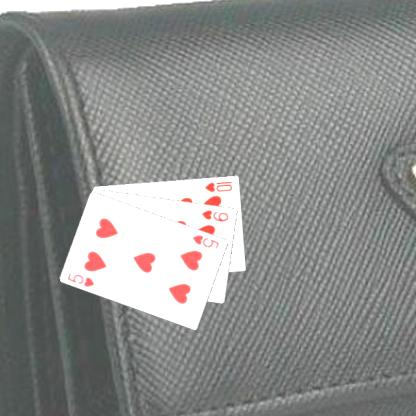10H: (202, 178, 234, 193)
5H: (190, 231, 221, 250), (65, 270, 96, 288)
9H: (199, 207, 230, 223)
